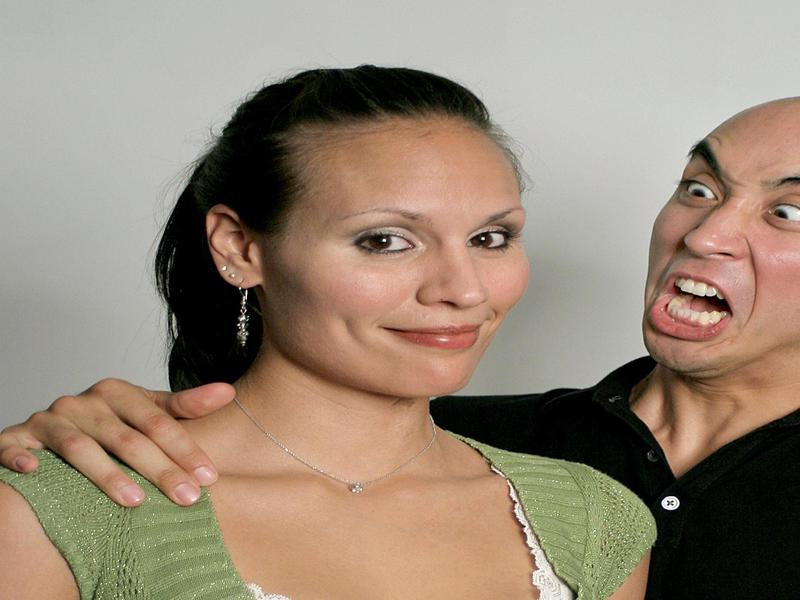person: (10, 64, 637, 600), (463, 89, 800, 600)
